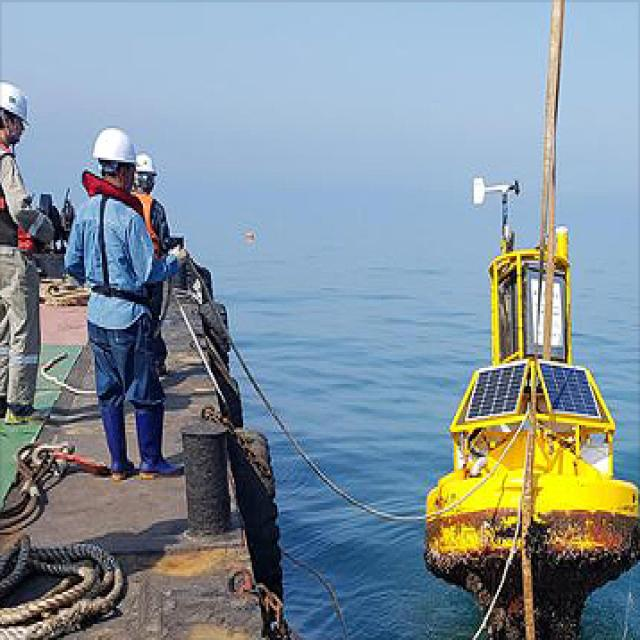2.5 sepcial mark: (426, 164, 636, 615)
